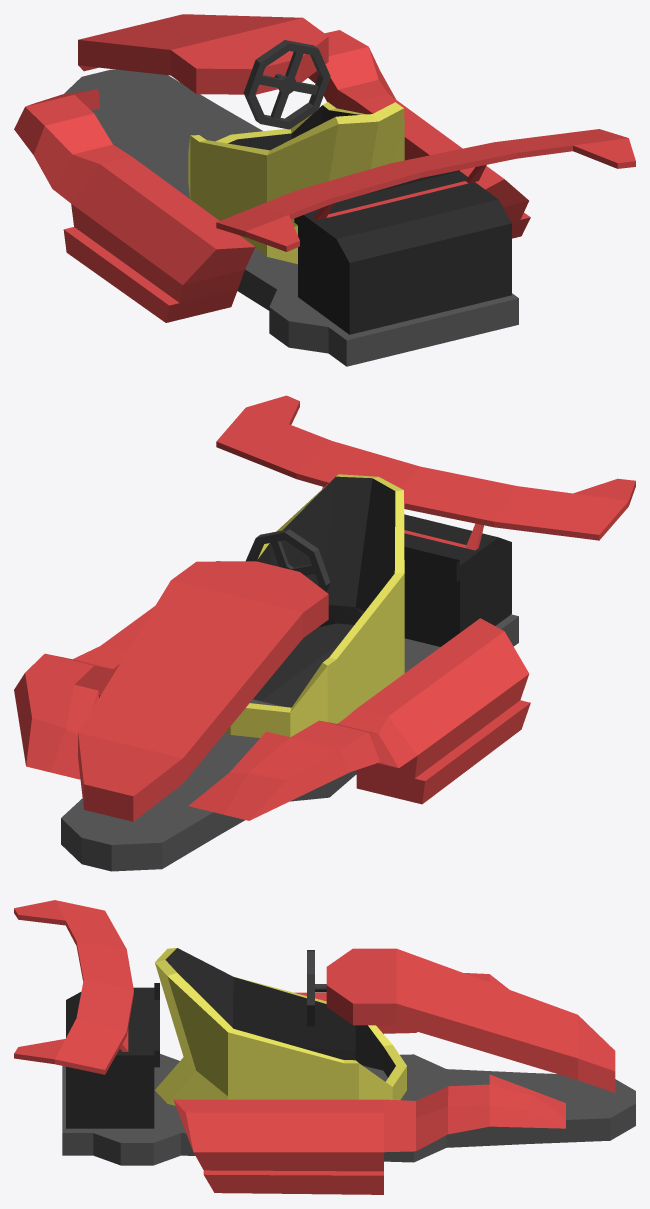
The model's file is Kart-2.fbx.
The picture shows the model from 3 angles, top to bottom: view 1: azimuth 30°, elevation 25°; view 2: azimuth 150°, elevation 25°; view 3: azimuth 270°, elevation 25°; orthographic projection. The views are drawn at different scales.
Parts seen in each view (by area): view 1: Kart; view 2: Kart; view 3: Kart.
Boxes of the visible parts, left/top/right/bottom form: Kart: left=14, top=14, right=635, bottom=366; Kart: left=14, top=395, right=635, bottom=871; Kart: left=14, top=900, right=635, bottom=1194.
Bounding box in the file's own units: 7.91 × 13.04 × 3.92.
